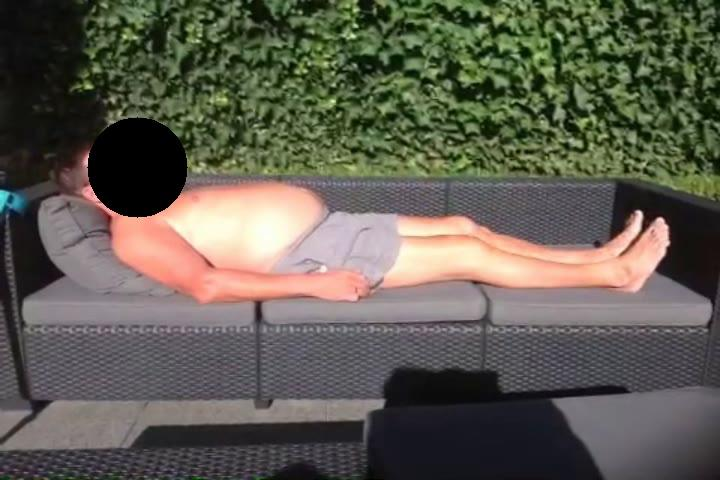lower_body: (307, 208, 673, 297)
